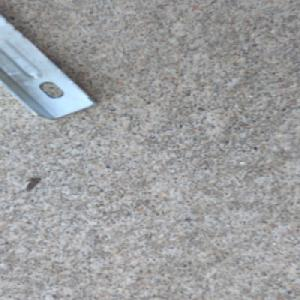ClampPart: (0, 10, 103, 121)
